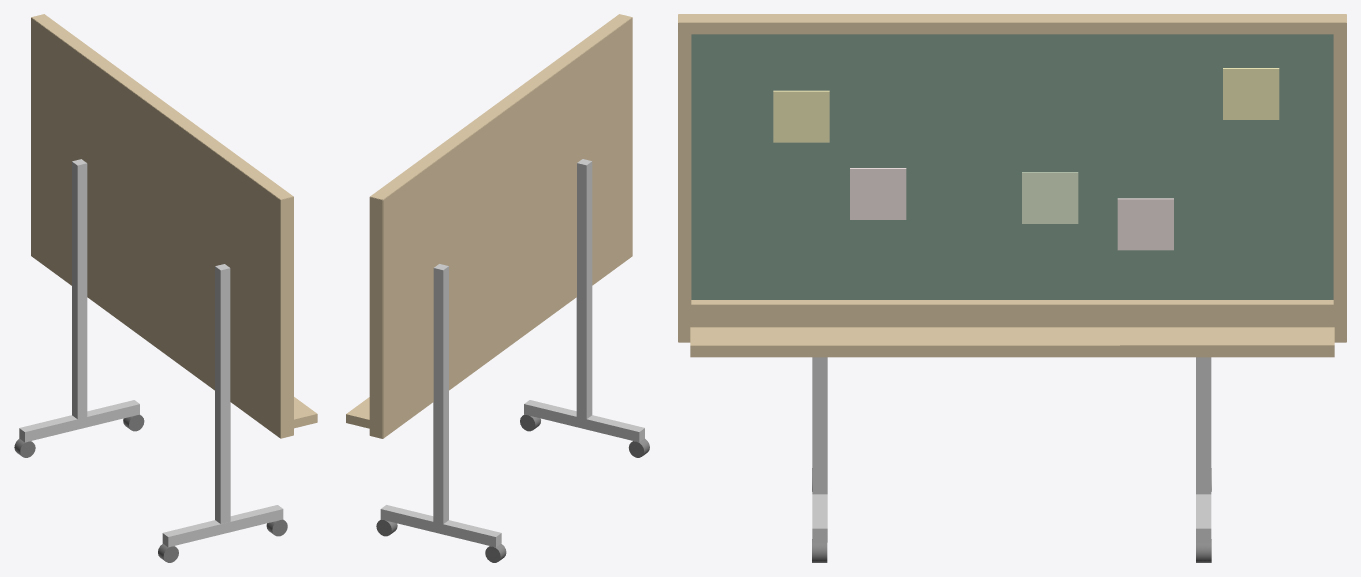
The model's file is board.glb.
The picture shows the model from 3 angles, left to right: view 1: azimuth 30°, elevation 25°; view 2: azimuth 150°, elevation 25°; view 3: azimuth 270°, elevation 25°; orthographic projection. The views are drawn at different scales.
Parts seen in each view (by area): view 1: Cube_5; view 2: Cube_5; view 3: Cube_5.
Part boxes in pixels (box(x1,y1,x2,y2)): Cube_5: box(14, 14, 317, 562); Cube_5: box(346, 14, 649, 562); Cube_5: box(678, 14, 1346, 562).
Size of the model in its own units: 1 by 2.97 by 3.5.
Materials: 1 (1 with a texture image).
